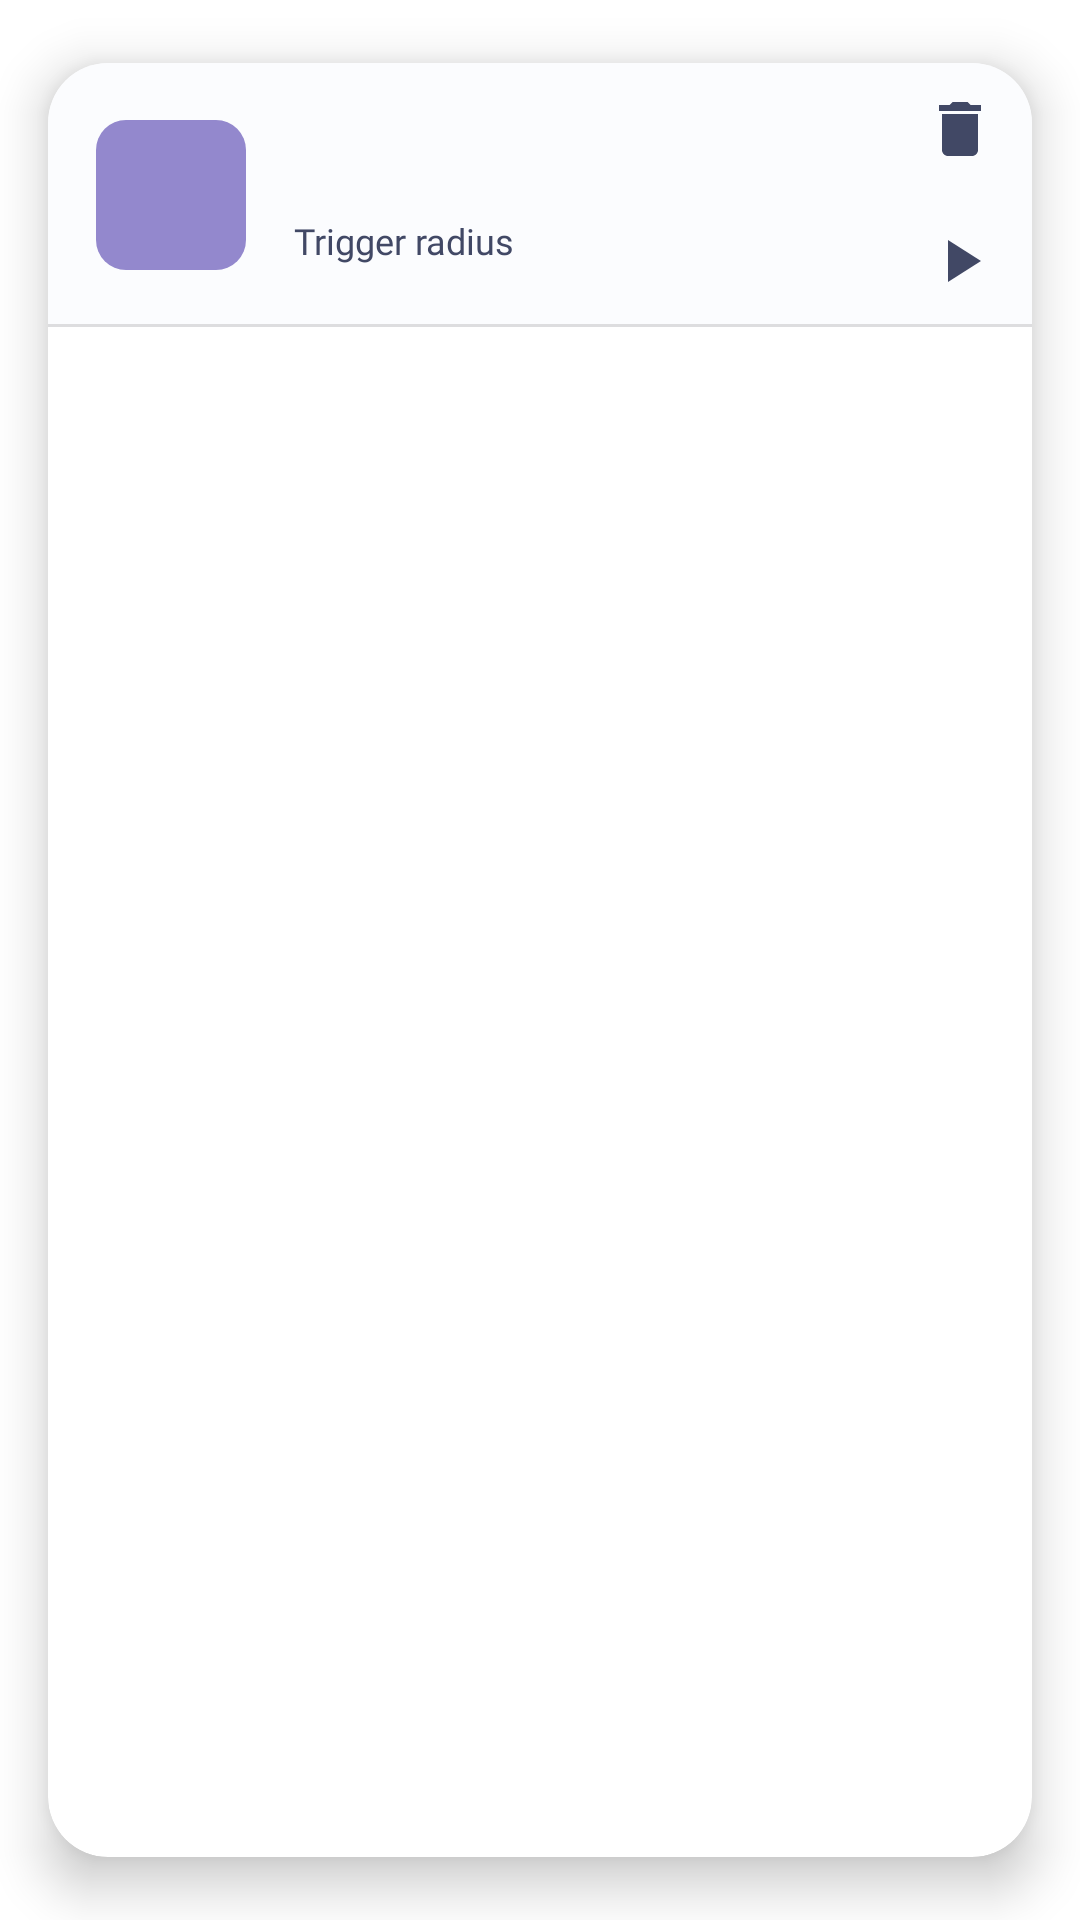

Screen size 1080px x 1920px. Icon name, then its center in pixels as (x=x, y=y):
delete: (x=960, y=129)
play arrow: (x=964, y=261)
